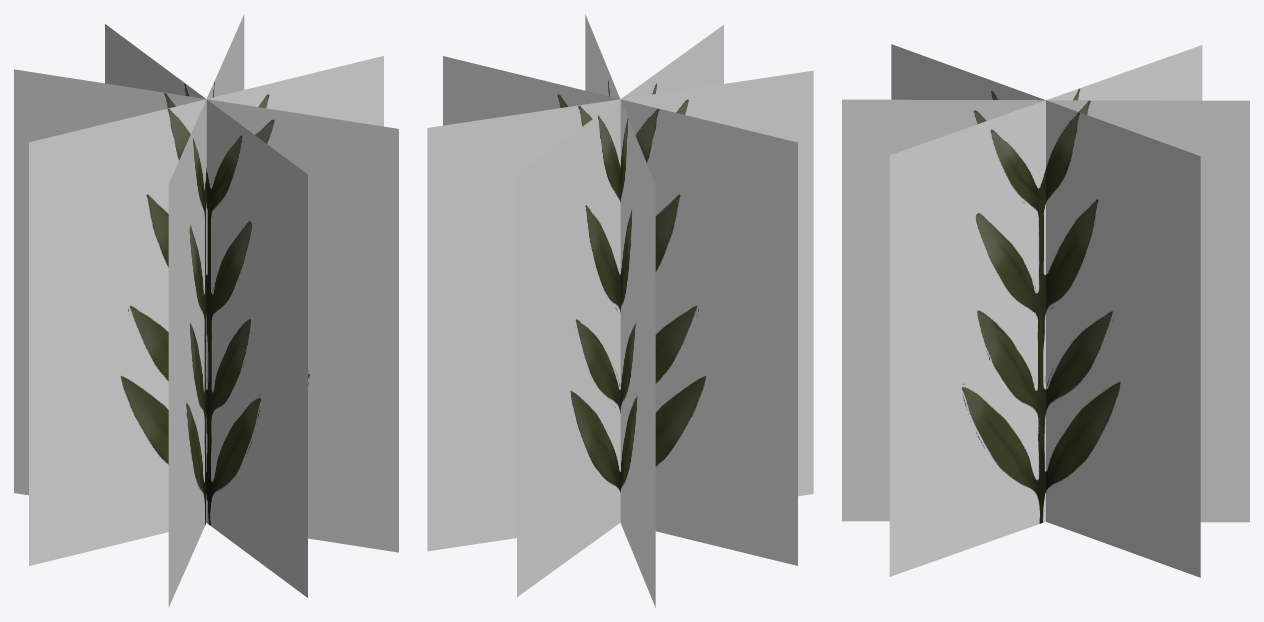
The model's file is Plant_9.1.fbx.
3 renders of one model, left to right at view 1: azimuth 30°, elevation 25°; view 2: azimuth 150°, elevation 25°; view 3: azimuth 270°, elevation 25°, orthographic.
Parts seen in each view (by area): view 1: Plant_9, Plant_9.03, Plant_9.01, Plant_9.02; view 2: Plant_9, Plant_9.02, Plant_9.01, Plant_9.03; view 3: Plant_9.03, Plant_9.02, Plant_9.01.
Boxes of the visible parts, left/top/right/bottom form: Plant_9: left=29, top=56, right=383, bottom=565; Plant_9.03: left=14, top=69, right=398, bottom=552; Plant_9.01: left=105, top=24, right=307, bottom=597; Plant_9.02: left=168, top=14, right=244, bottom=607; Plant_9: left=443, top=56, right=797, bottom=565; Plant_9.02: left=427, top=70, right=813, bottom=551; Plant_9.01: left=517, top=25, right=723, bottom=596; Plant_9.03: left=585, top=14, right=655, bottom=607; Plant_9.03: left=889, top=45, right=1202, bottom=576; Plant_9.02: left=891, top=44, right=1200, bottom=577; Plant_9.01: left=842, top=99, right=1249, bottom=522.
Bounding box in the file's own units: 1.89 × 2.15 × 1.89.
Materials: 1 (1 with a texture image).
